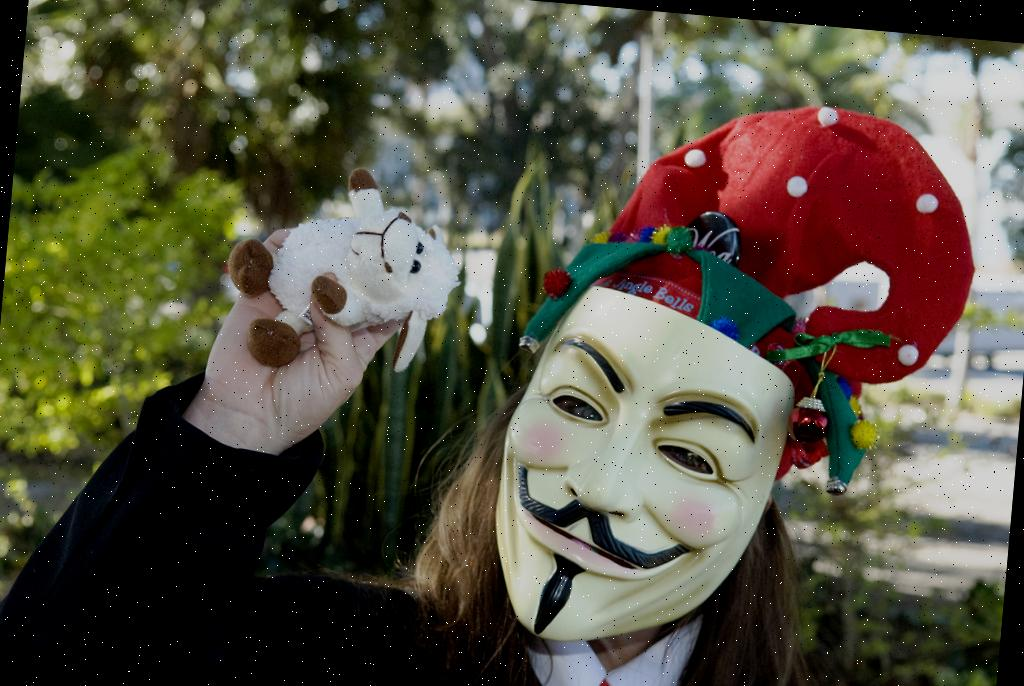Sheep: (218, 154, 470, 385)
